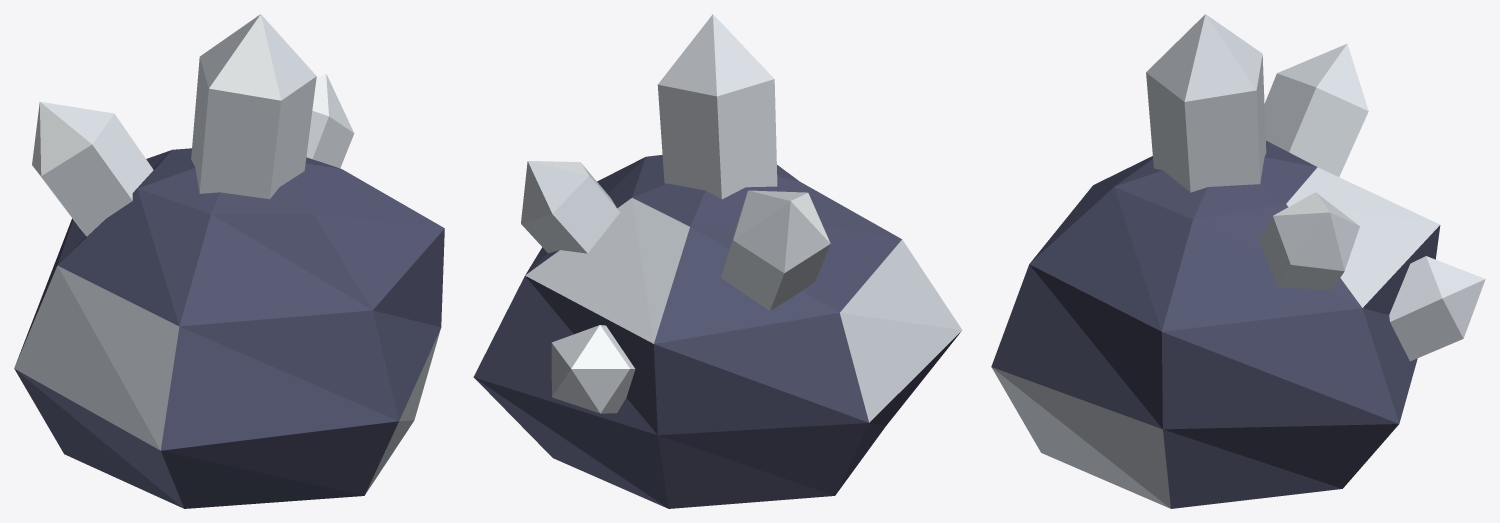
File: OreChunk.obj
3 renders of one model, left to right at view 1: azimuth 30°, elevation 25°; view 2: azimuth 150°, elevation 25°; view 3: azimuth 270°, elevation 25°, orthographic. The views are drawn at different scales.
Bounding box in the file's own units: 2.32 × 2.59 × 2.71.
